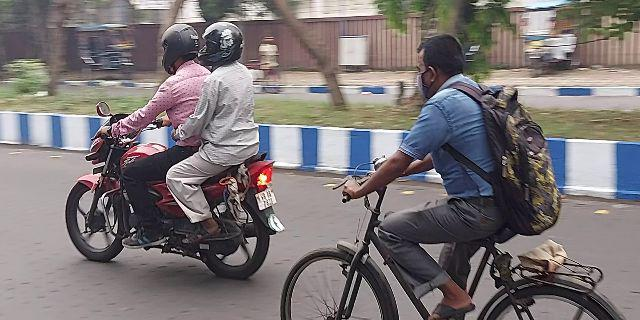Cycle: (285, 32, 630, 320)
Motorbike: (58, 98, 277, 278)
